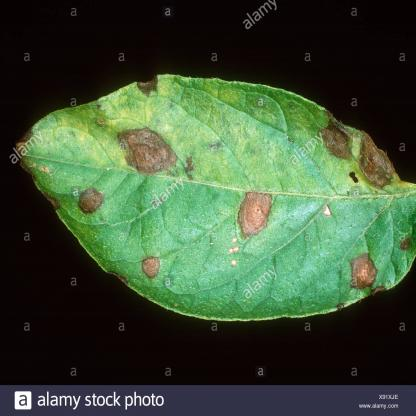potato leaf early blight: (11, 70, 416, 323)
